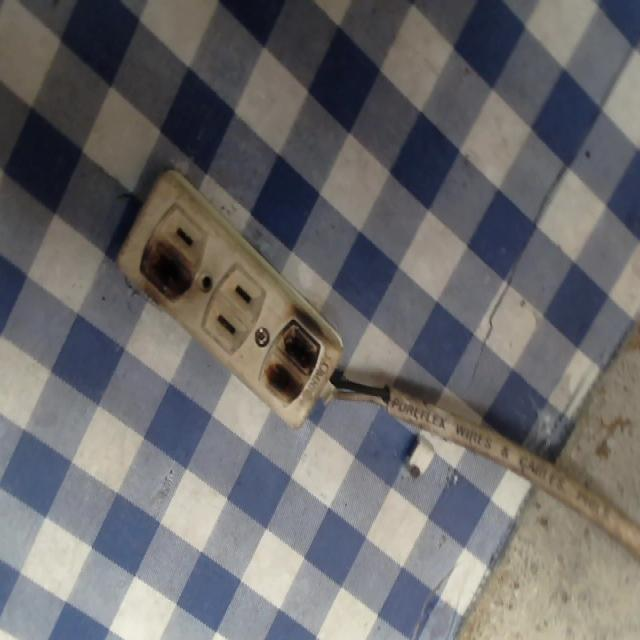-: (261, 301, 325, 416), (136, 237, 201, 307)
